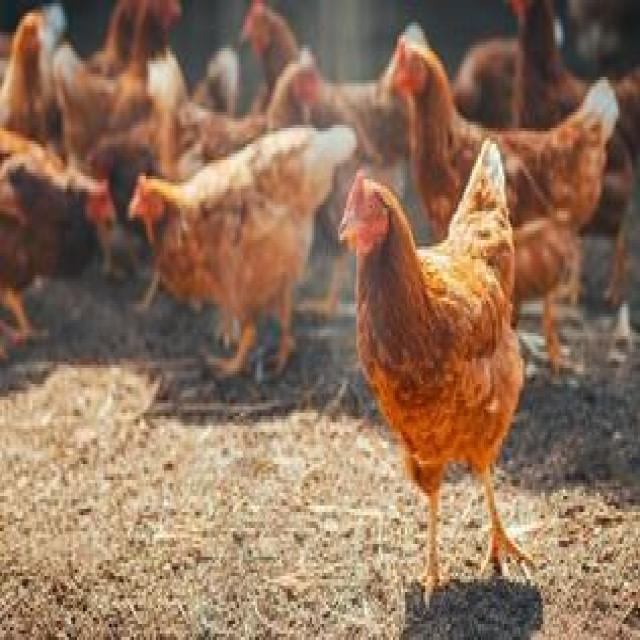Chicken: (339, 164, 573, 606), (124, 115, 357, 402)
